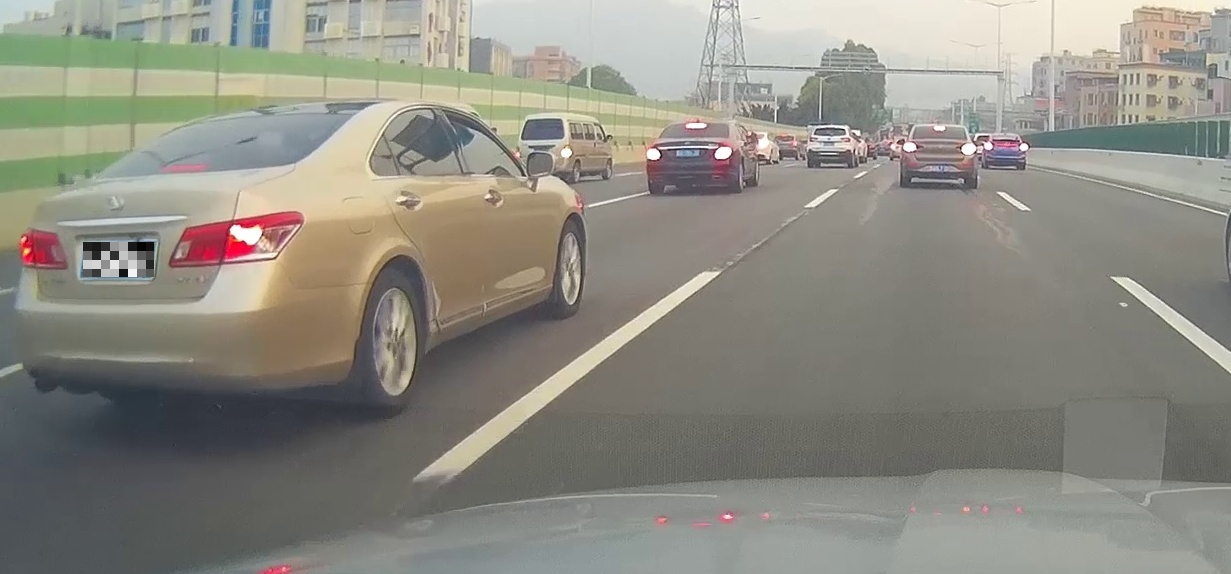L_light: (16, 226, 69, 268), (902, 141, 923, 152), (646, 147, 661, 162)
R_light: (168, 209, 304, 268), (713, 145, 732, 160), (956, 143, 976, 155)
T_light: (157, 164, 206, 171), (686, 124, 706, 127), (934, 127, 946, 130)
day-brake: (10, 104, 365, 420), (644, 118, 734, 193), (900, 123, 977, 188)
plate_1: (83, 242, 154, 277)
